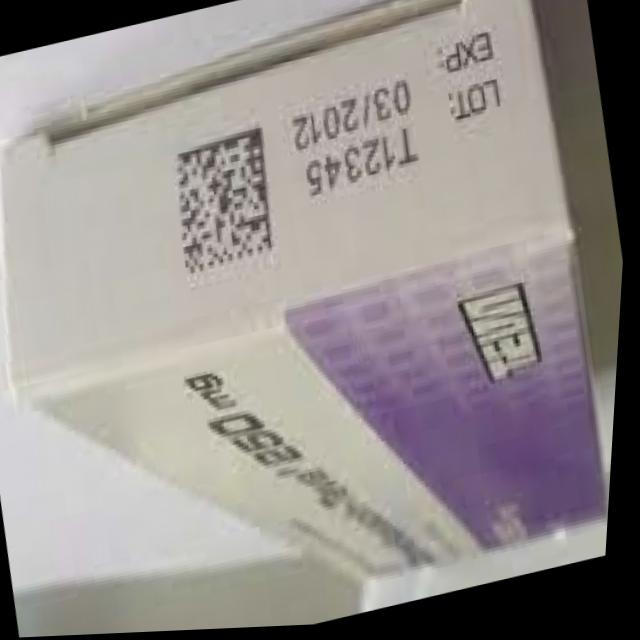datamatrix: (159, 121, 297, 295)
